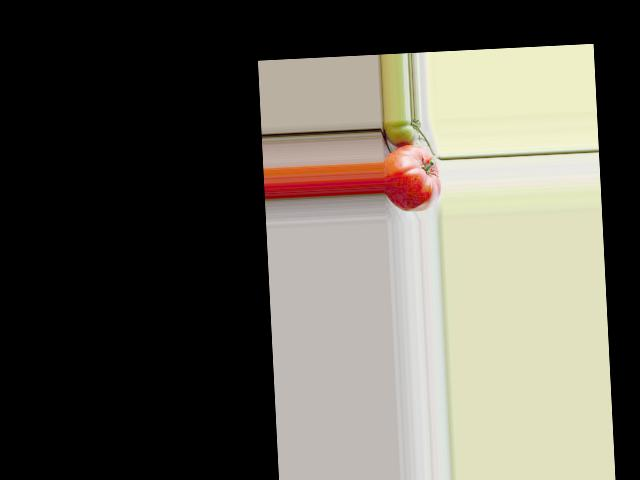tomato: (381, 143, 442, 213)
